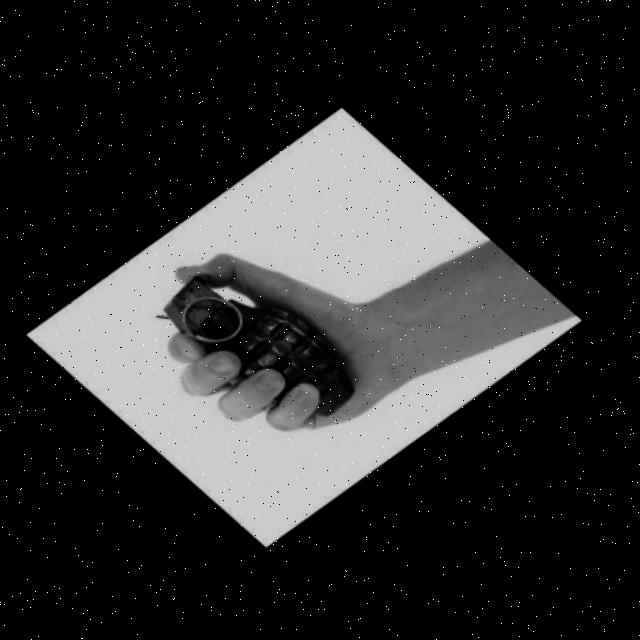grenade: (139, 265, 373, 427)
